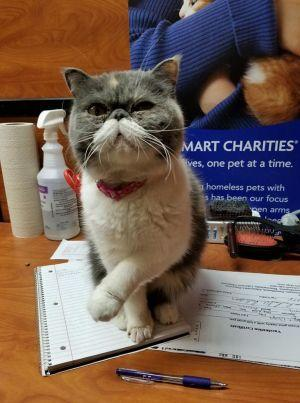persian: (57, 52, 190, 193)
